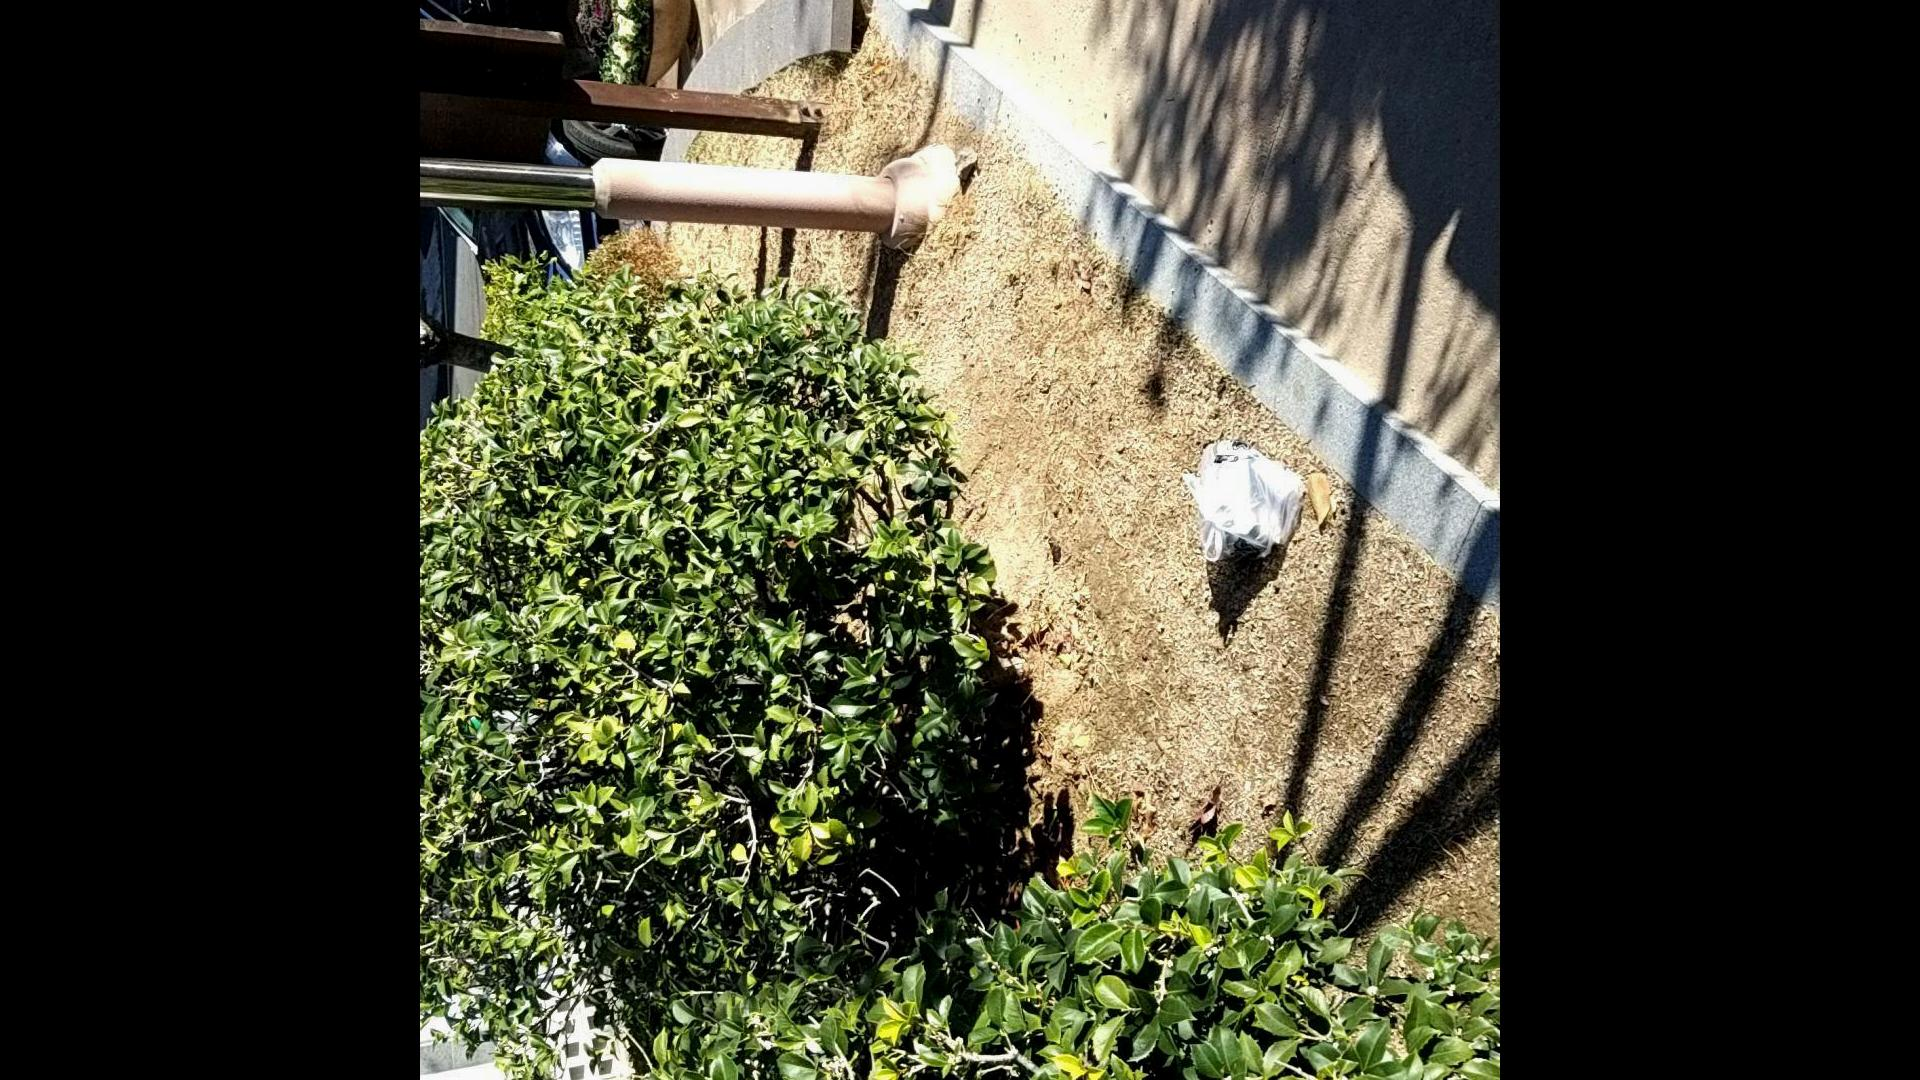white_bag: (1183, 436, 1311, 571)
